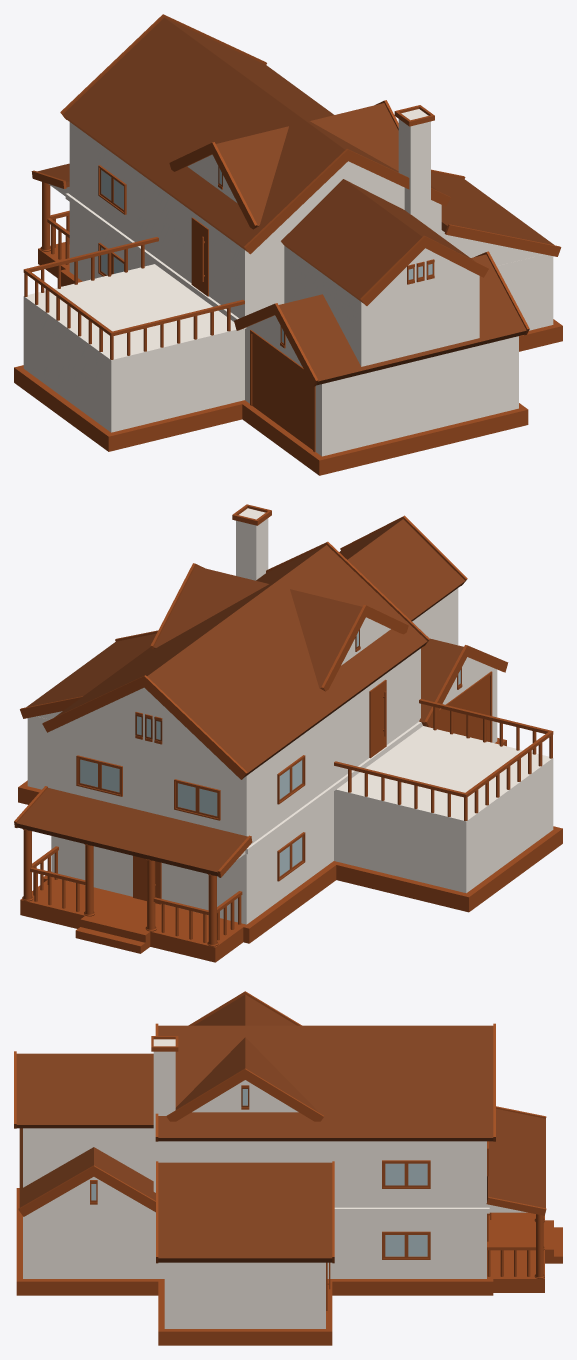
File: ModernHouse.glb
3 views of the same model, one above another, from view 1: azimuth 30°, elevation 25°; view 2: azimuth 150°, elevation 25°; view 3: azimuth 270°, elevation 25° (orthographic). The views are drawn at different scales.
Visible parts, largest first — view 1: Roof, Garage, Balcony, SecondFloor, House, Shed, Chimney, Porch, Windows; view 2: Roof, House, Balcony, Porch, SecondFloor, Garage, Shed, Windows, Chimney; view 3: Roof, Shed, House, Garage, SecondFloor, Porch, Windows, Chimney.
Part boxes in pixels (x1,y1,x2,y2): Roof: (60, 14, 450, 254); Garage: (234, 251, 529, 475); Balcony: (14, 217, 244, 451); SecondFloor: (281, 179, 488, 366); House: (61, 122, 441, 403); Shed: (431, 169, 562, 351); Chimney: (394, 105, 434, 228); Porch: (31, 163, 69, 277); Windows: (98, 165, 126, 276); Roof: (42, 541, 429, 779); House: (43, 648, 422, 943); Balcony: (334, 679, 562, 912); Porch: (14, 786, 252, 962); SecondFloor: (339, 515, 467, 645); Garage: (419, 638, 508, 746); Shed: (18, 630, 158, 804); Windows: (76, 755, 305, 881); Chimney: (232, 504, 271, 580); Roof: (155, 991, 495, 1141); Shed: (156, 1161, 334, 1345); House: (158, 1141, 493, 1295); Garage: (16, 1128, 164, 1295); SecondFloor: (14, 1051, 153, 1187); Porch: (486, 1106, 562, 1292); Windows: (382, 1141, 488, 1259); Chimney: (151, 1036, 178, 1192).
Size of the model in its own units: 18.7 by 10.24 by 21.3.
